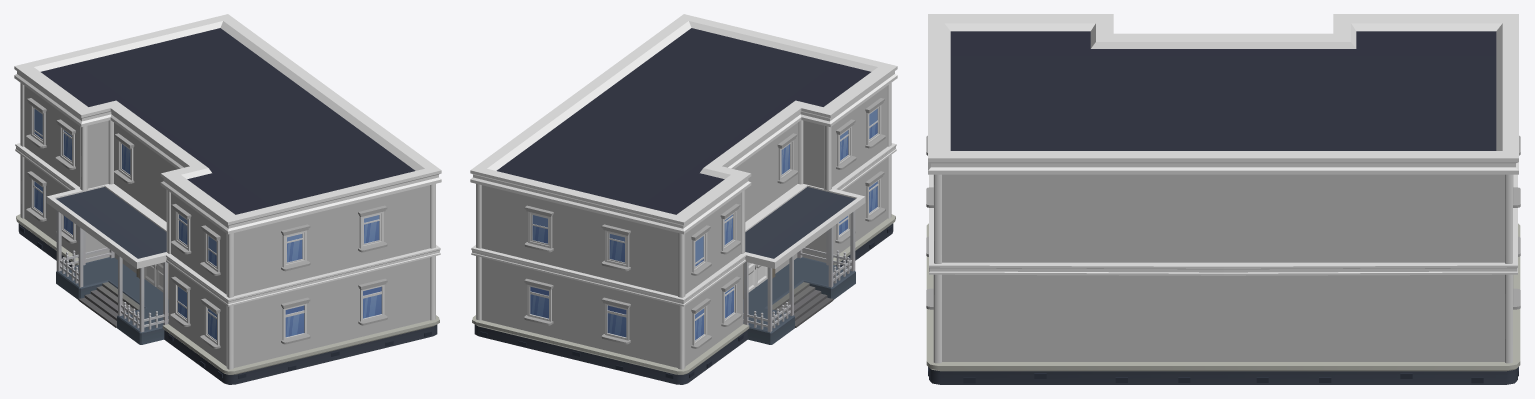
File: Building_5_1_B.fbx
The picture shows the model from 3 angles, left to right: view 1: azimuth 30°, elevation 25°; view 2: azimuth 150°, elevation 25°; view 3: azimuth 270°, elevation 25°; orthographic projection. The views are drawn at different scales.
Visible parts, largest first — view 1: Building_5_1_B; view 2: Building_5_1_B; view 3: Building_5_1_B.
Part boxes in pixels (left/top/right/bottom): Building_5_1_B: left=14, top=14, right=441, bottom=384; Building_5_1_B: left=470, top=14, right=897, bottom=384; Building_5_1_B: left=926, top=14, right=1520, bottom=384.
Size of the model in its own units: 1251 by 804 by 1908.
